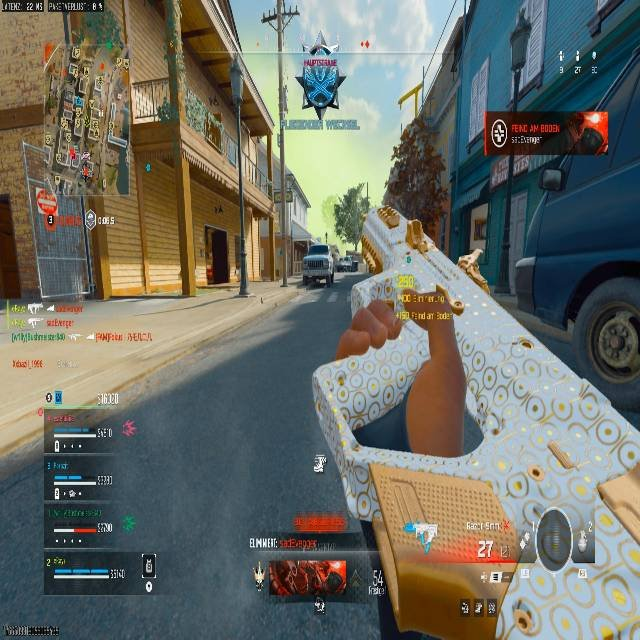player: (296, 42, 345, 119)
